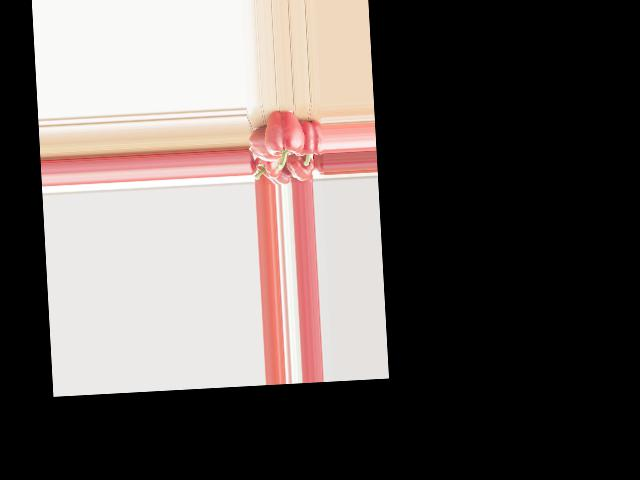bell_pepper: (251, 154, 282, 180)
